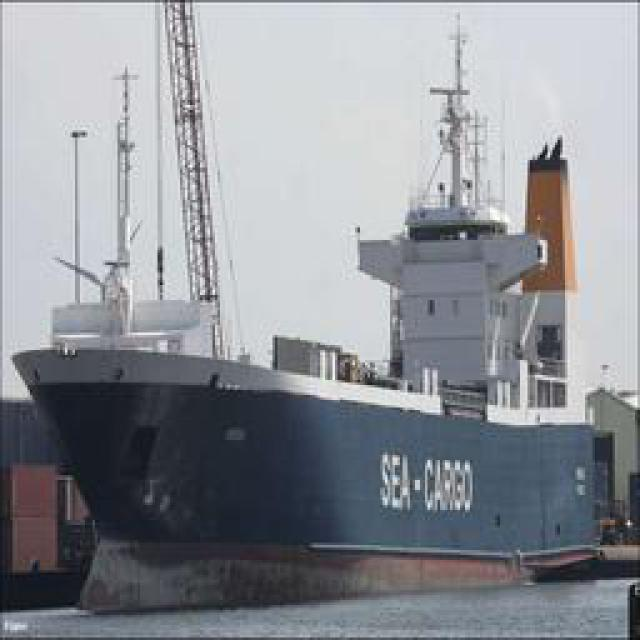Ship: (19, 31, 640, 623)
